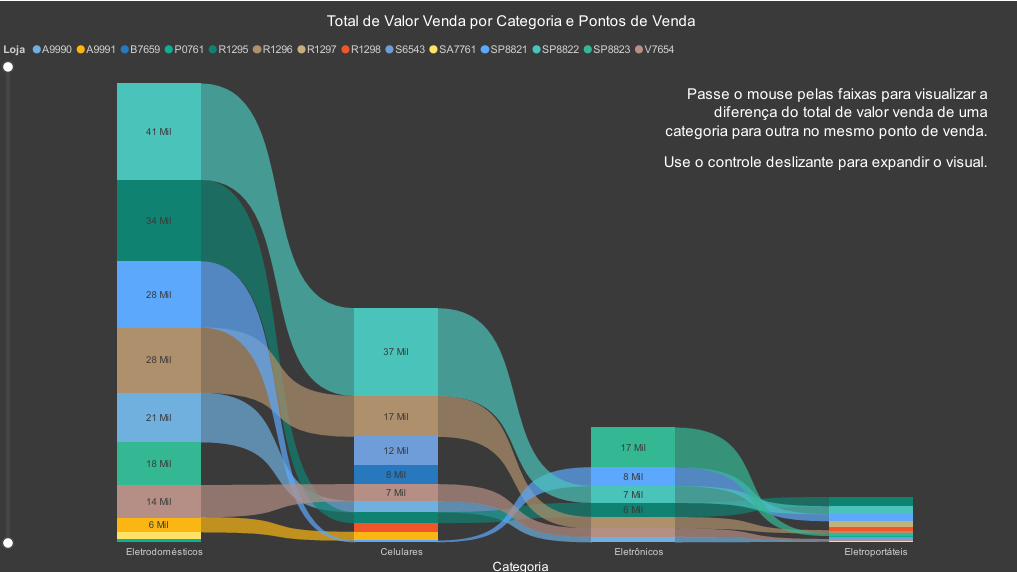

The dashboard page shown, as its layout file describes it:
{"tool":"powerbi","page":{"name":"Faixa de Vendas Por Categorias e Pontos de Venda","canvas":[1280,720],"ordinal":3},"visuals":[{"type":"ribbonChart","title":"Total de Valor Venda por Categoria e Pontos de Venda","fields":{"Category":["Vendas.Categoria"],"Y":["Sum(Vendas.ValorVenda)"],"Series":["Vendas.Loja"]},"box":[0,13,1280.2,707],"z":0},{"type":"textbox","box":[823.7,99.4,417.6,141.1],"z":1}]}

Visuals, with their boxes in screenshot pixels (x1, y1, x2, y2), scaled from the page's 1280x720 canvas onto the 1017x572 screenshot:
"Total de Valor Venda por Categoria e Pontos de Venda" ribbonChart: rect(0, 10, 1016, 571)
textbox: rect(654, 79, 986, 191)
